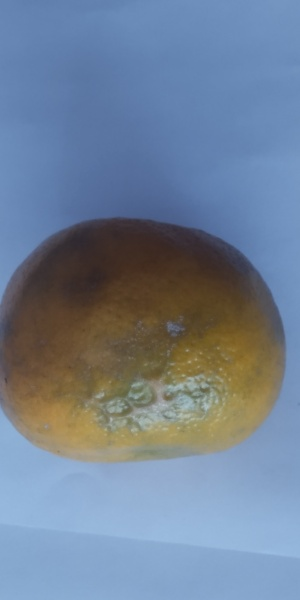BAD: (1, 213, 292, 458)
